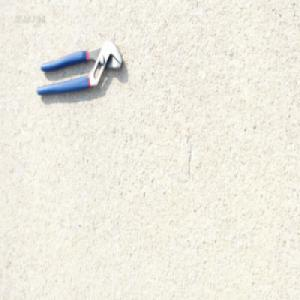Pliers: (35, 39, 123, 97)
